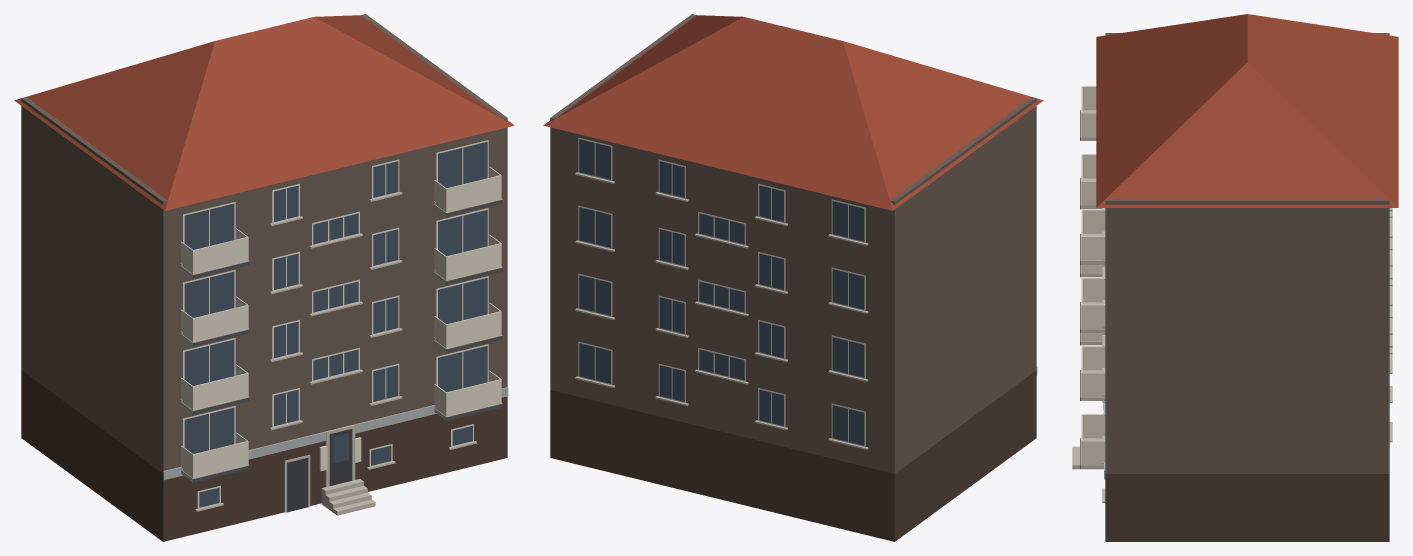
Rendered from nw-portiek-plinth-hip__buff-brown__5__hip__long__solid.glb.
The picture shows the model from 3 angles, left to right: view 1: azimuth 30°, elevation 25°; view 2: azimuth 150°, elevation 25°; view 3: azimuth 270°, elevation 25°; orthographic projection.
Visible parts, largest first — view 1: nw-portiek-plinth-hip__buff-brown__5__hip__long__solid; view 2: nw-portiek-plinth-hip__buff-brown__5__hip__long__solid; view 3: nw-portiek-plinth-hip__buff-brown__5__hip__long__solid.
Boxes of the visible parts, x1=… form: nw-portiek-plinth-hip__buff-brown__5__hip__long__solid: x1=14, y1=14, x2=514, y2=541; nw-portiek-plinth-hip__buff-brown__5__hip__long__solid: x1=543, y1=14, x2=1043, y2=541; nw-portiek-plinth-hip__buff-brown__5__hip__long__solid: x1=1072, y1=14, x2=1398, y2=541.
Bounding box in the file's own units: 15.49 × 17.73 × 12.5.
